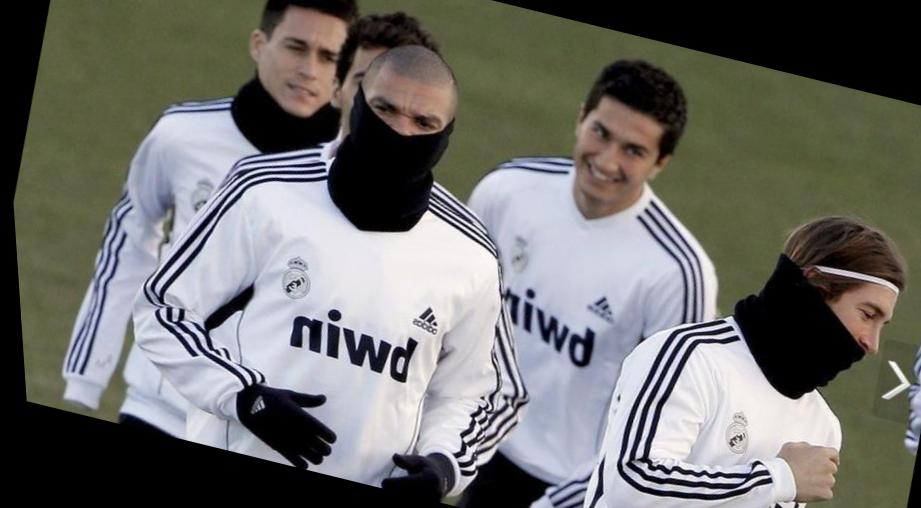NONE: (253, 24, 351, 122), (562, 118, 657, 211)
OK: (337, 79, 457, 193)
WRONG: (786, 278, 898, 384)
